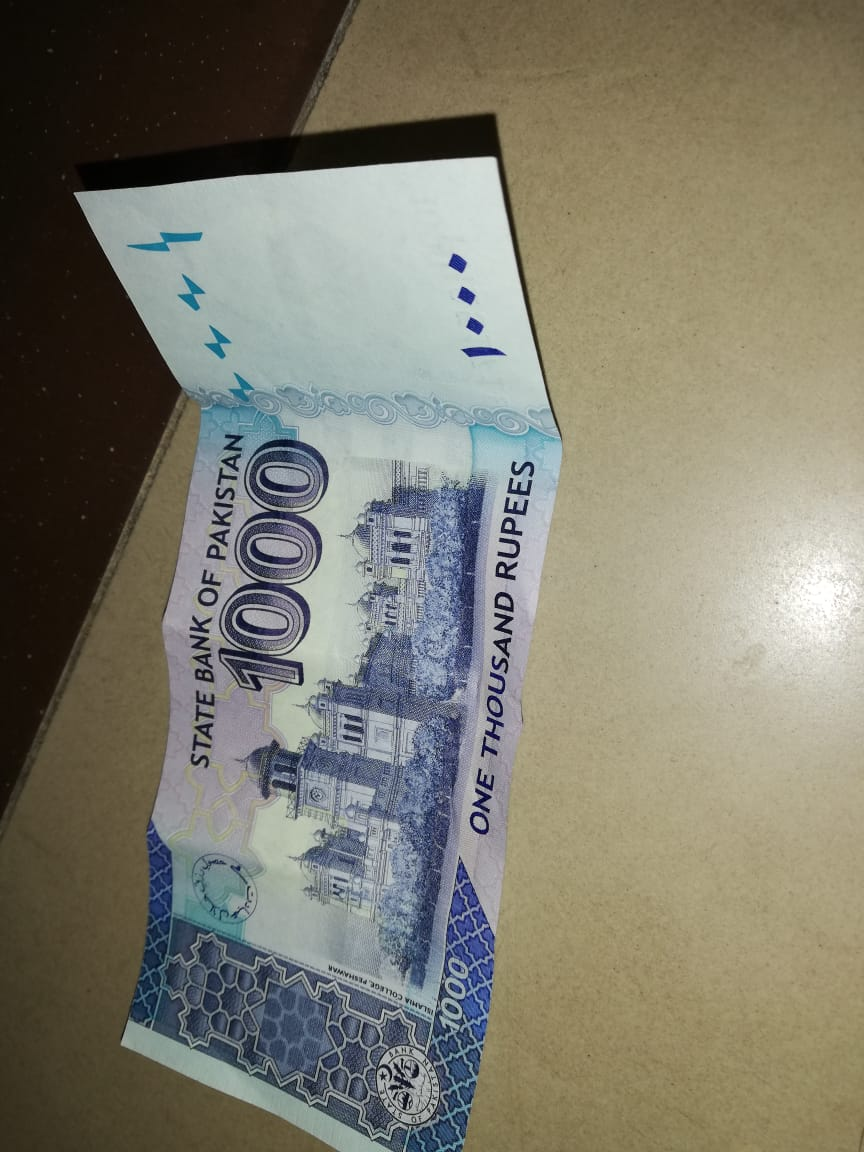1000 rupee: (64, 64, 606, 1152)
